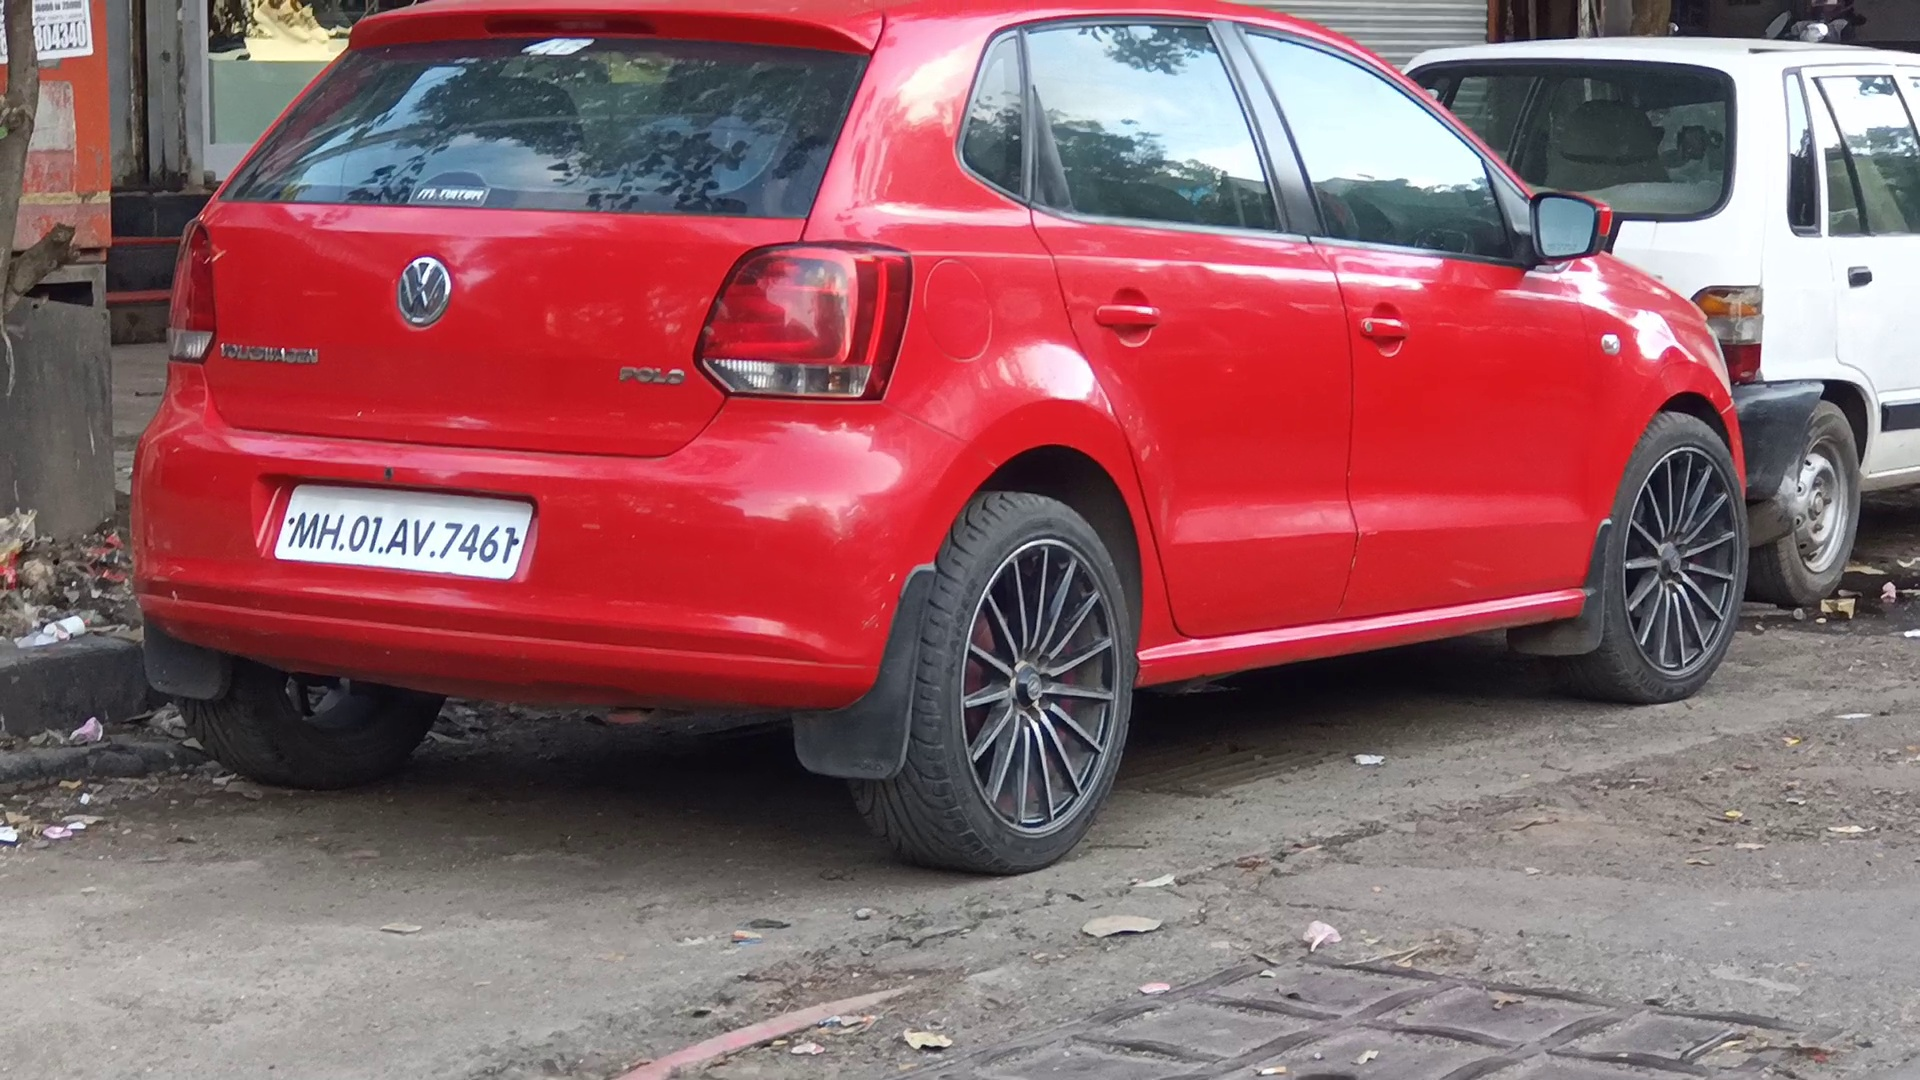MH01AV7461: (275, 482, 533, 581)
